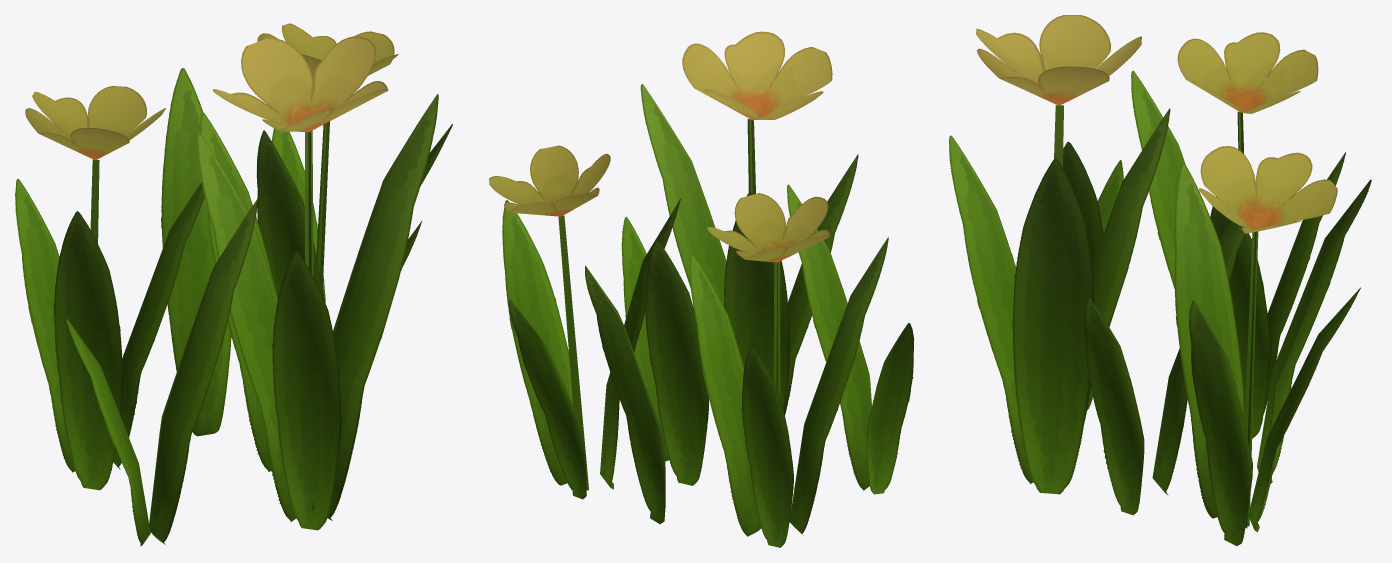
The model's file is SM_flower_02.glb.
3 views of the same model, side by side, from view 1: azimuth 30°, elevation 25°; view 2: azimuth 150°, elevation 25°; view 3: azimuth 270°, elevation 25° (orthographic). The views are drawn at different scales.
Parts seen in each view (by area): view 1: SM_flower_02; view 2: SM_flower_02; view 3: SM_flower_02.
Part boxes in pixels (box(x1,y1,x2,y2)): SM_flower_02: box(15, 23, 452, 546); SM_flower_02: box(489, 31, 914, 547); SM_flower_02: box(949, 15, 1371, 545).
Bounding box in the file's own units: 0.9319 × 0.9493 × 0.8196.
Materials: 2 (2 with a texture image).
